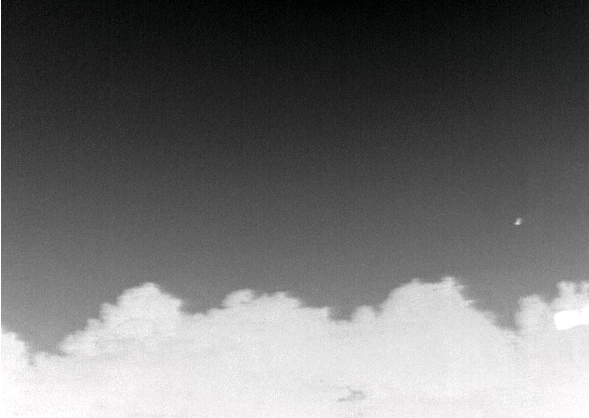dim target: (513, 217, 523, 227)
